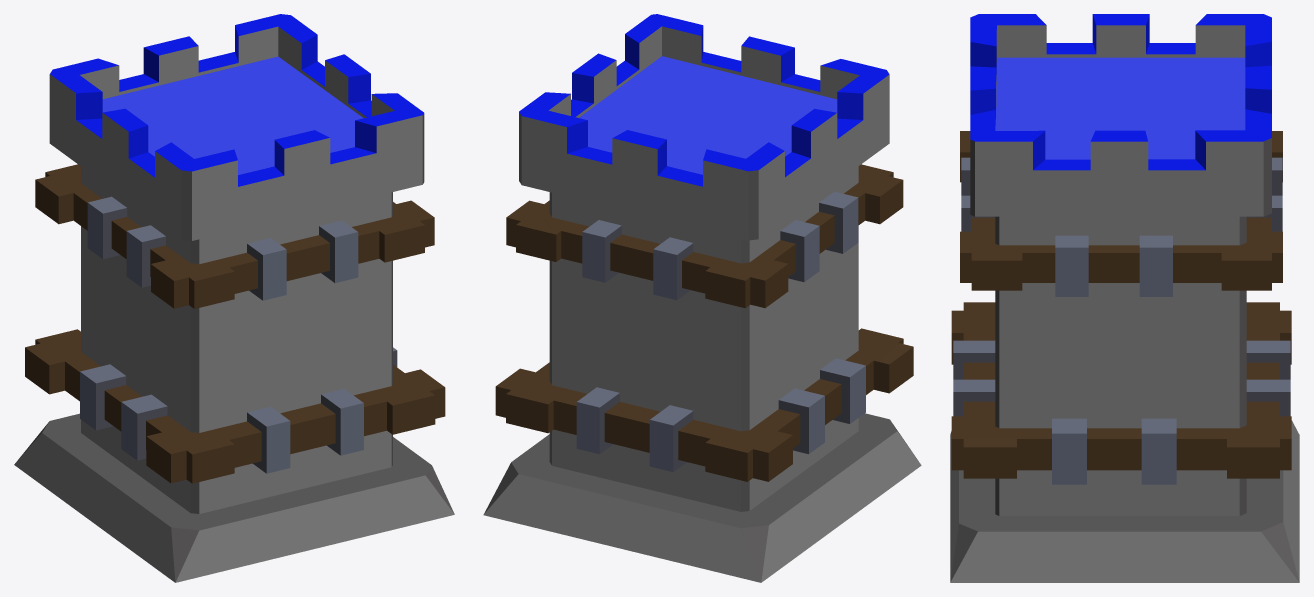
The model's file is Tower6 1.fbx.
The picture shows the model from 3 angles, left to right: view 1: azimuth 30°, elevation 25°; view 2: azimuth 150°, elevation 25°; view 3: azimuth 270°, elevation 25°; orthographic projection. The views are drawn at different scales.
Parts seen in each view (by area): view 1: Tower6; view 2: Tower6; view 3: Tower6.
Part boxes in pixels (box(x1,y1,x2,y2)): Tower6: box(14, 14, 454, 582); Tower6: box(483, 14, 921, 582); Tower6: box(950, 14, 1299, 582).
Bounding box in the file's own units: 325 × 443 × 325.
